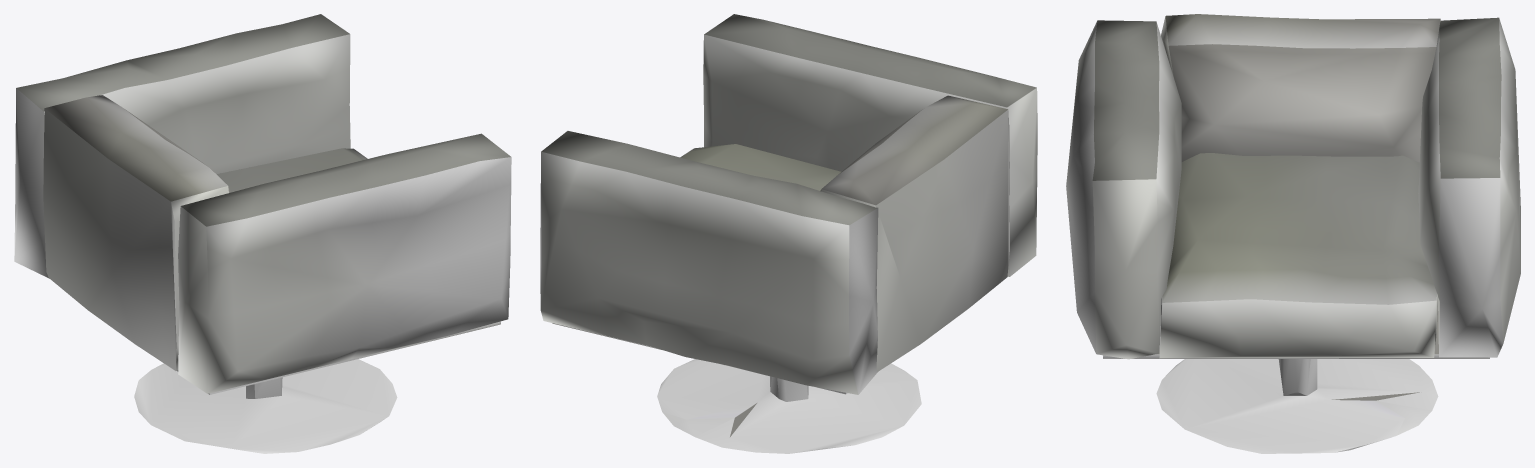
Rendered from S_Sofa0009.obj.
3 renders of one model, left to right at view 1: azimuth 30°, elevation 25°; view 2: azimuth 150°, elevation 25°; view 3: azimuth 270°, elevation 25°, orthographic. The views are drawn at different scales.
Size of the model in its own units: 0.686 by 0.573 by 0.755.
Materials: 1 (1 with a texture image).
